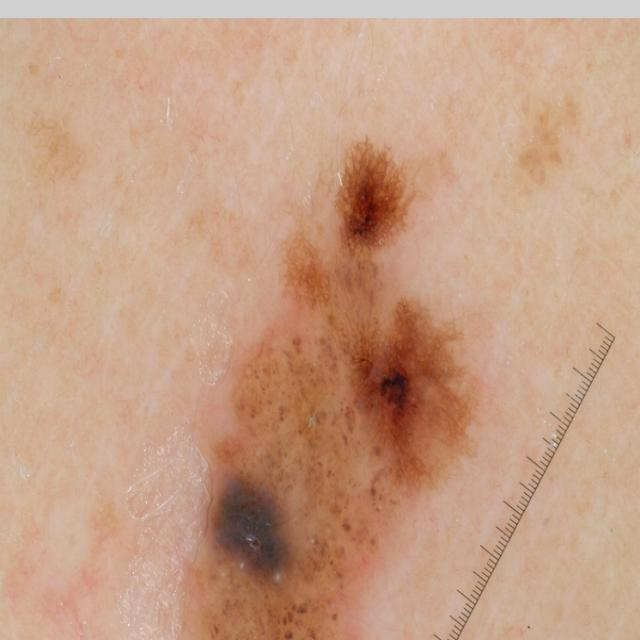Melanoma: (170, 105, 476, 640)
